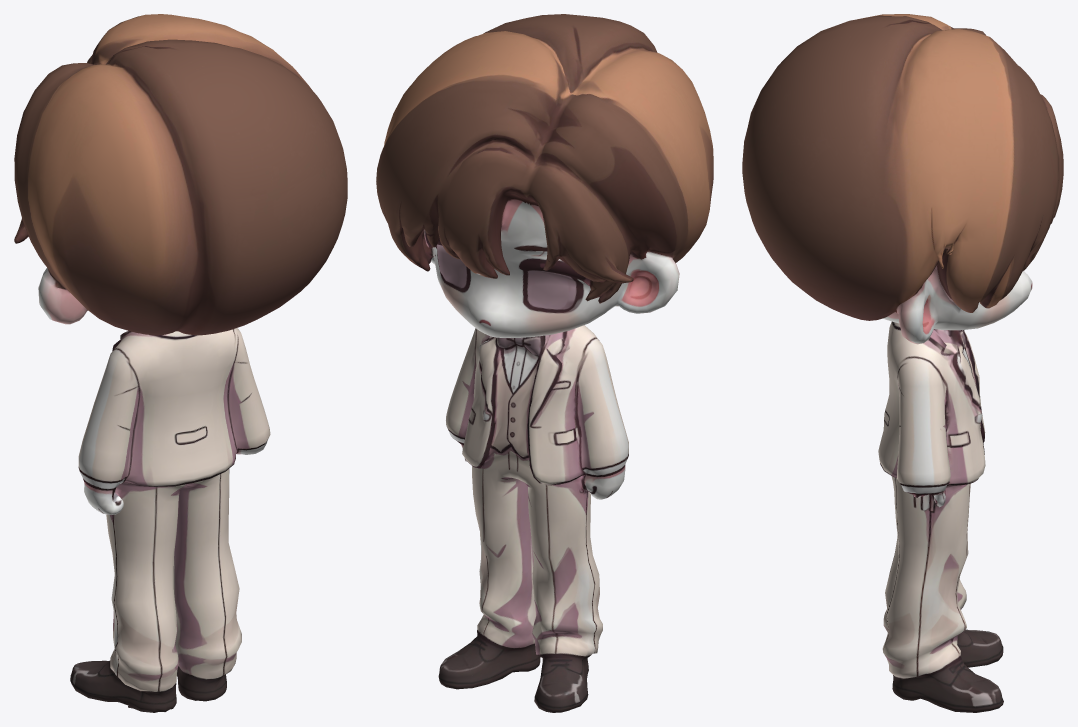
The model's file is SM_A_Npc_Boss.glb.
3 renders of one model, left to right at view 1: azimuth 30°, elevation 25°; view 2: azimuth 150°, elevation 25°; view 3: azimuth 270°, elevation 25°, orthographic. The views are drawn at different scales.
Visible parts, largest first — view 1: SM_A_Npc_Boss; view 2: SM_A_Npc_Boss; view 3: SM_A_Npc_Boss.
Part boxes in pixels (x1,y1,x2,y2): SM_A_Npc_Boss: [14, 14, 347, 712]; SM_A_Npc_Boss: [376, 14, 713, 712]; SM_A_Npc_Boss: [742, 14, 1063, 712].
Size of the model in its own units: 0.6255 by 1.3 by 0.5862.
Materials: 1 (1 with a texture image).
